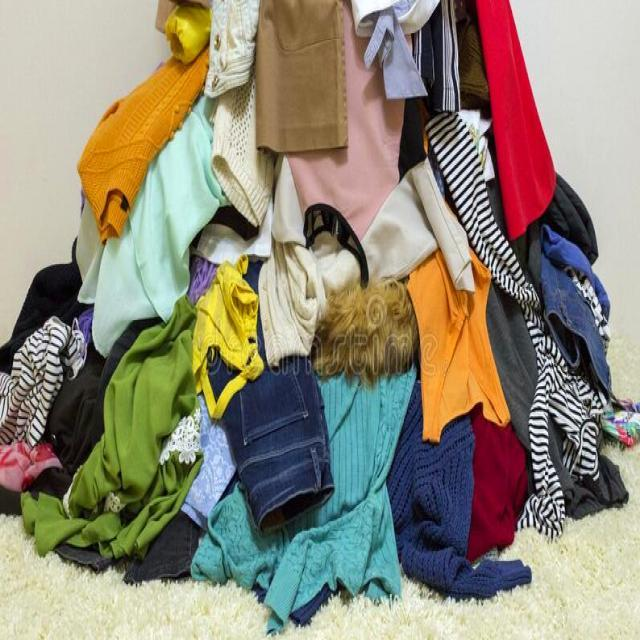clothes: (30, 78, 622, 572)
